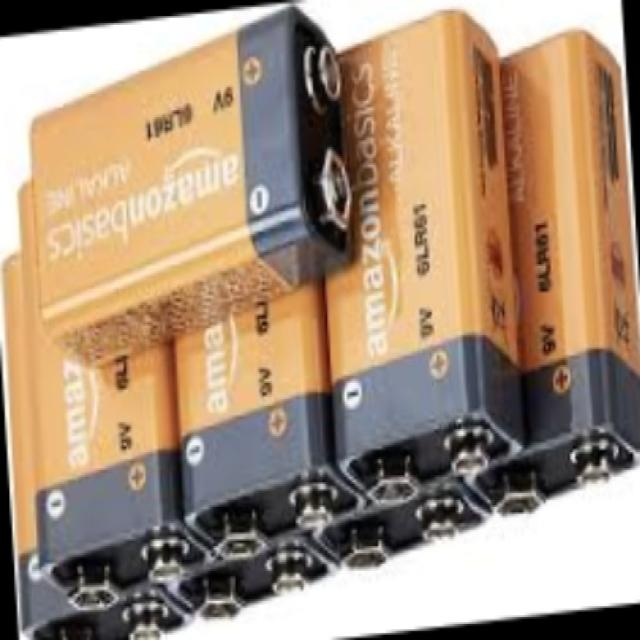elektronik: (30, 11, 346, 348), (325, 12, 515, 468), (7, 218, 167, 604)
